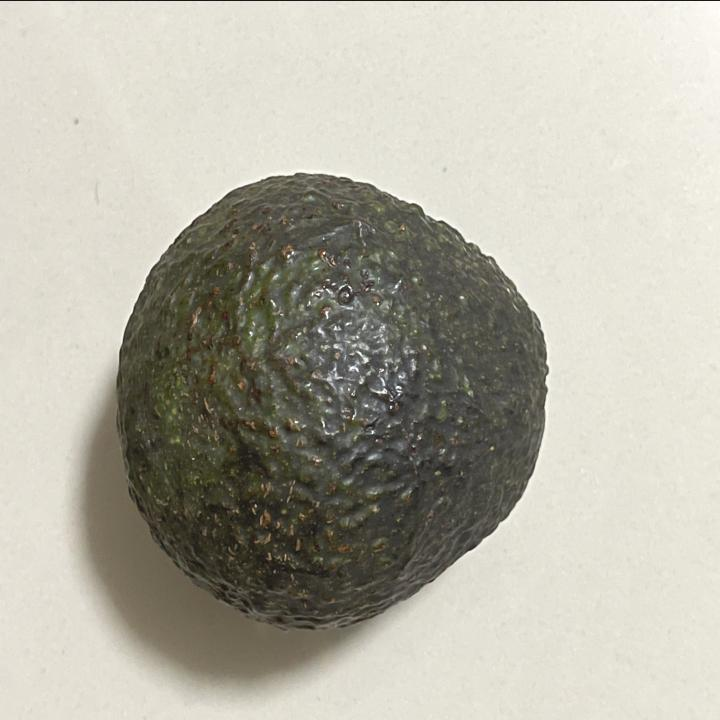Level1: (102, 156, 574, 644)
